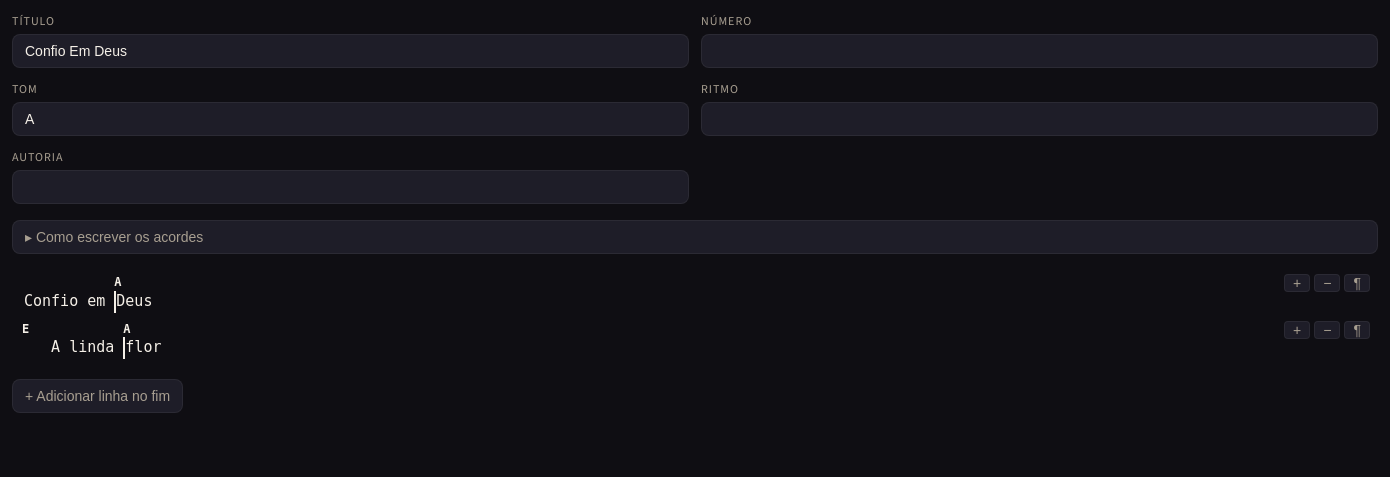
Test case: cada linha se anuncia pelo que tem dentro › linha vazia se anuncia como vazia, e não como uma linha sem nome
Click the button named "inserir linha abaixo" at (1297, 283), box 1284,274 -> 1310,292
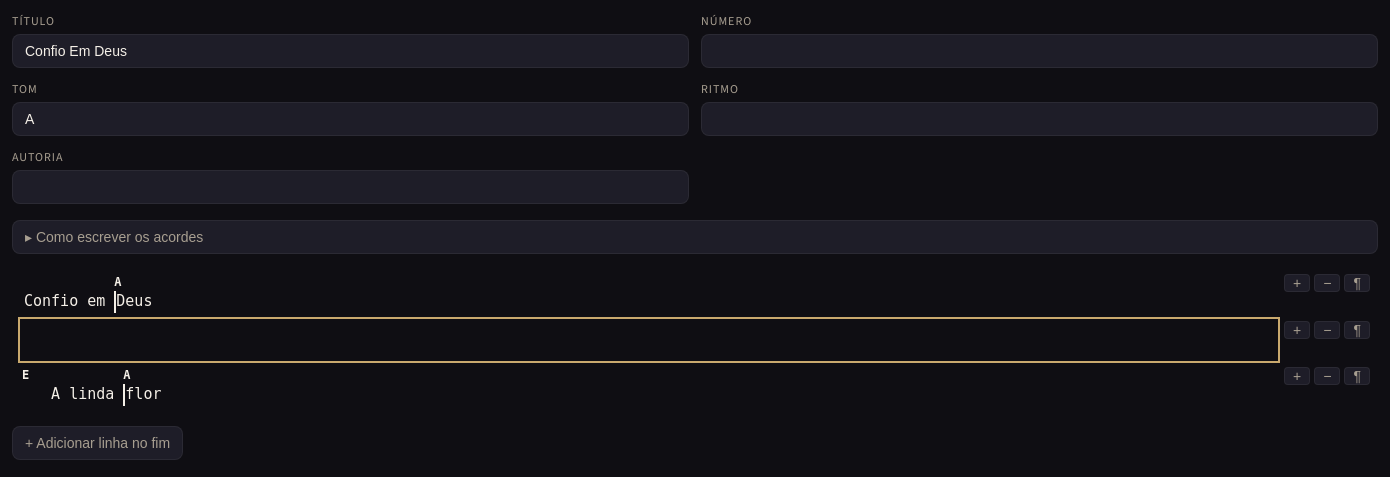
Result: the button named "Editar linha 2, vazia" is shown at 22,320 -> 1276,359
